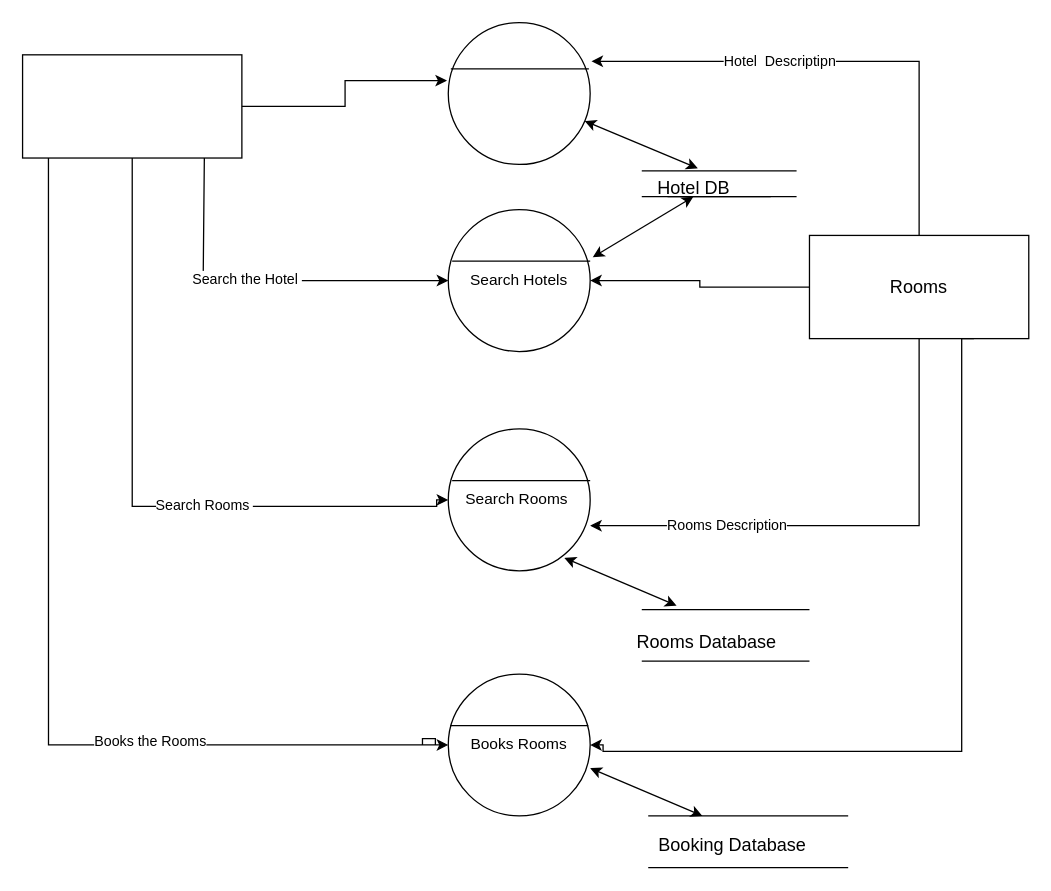
The diagram is 1051 pixels wide and 891 high, and some of its shapes have lost their labels. Here are the shapes that lost their labels. From the top down, the centre of each, then its label:
At (x=131, y=106): "User".
At (x=518, y=92): "View Hotels".
